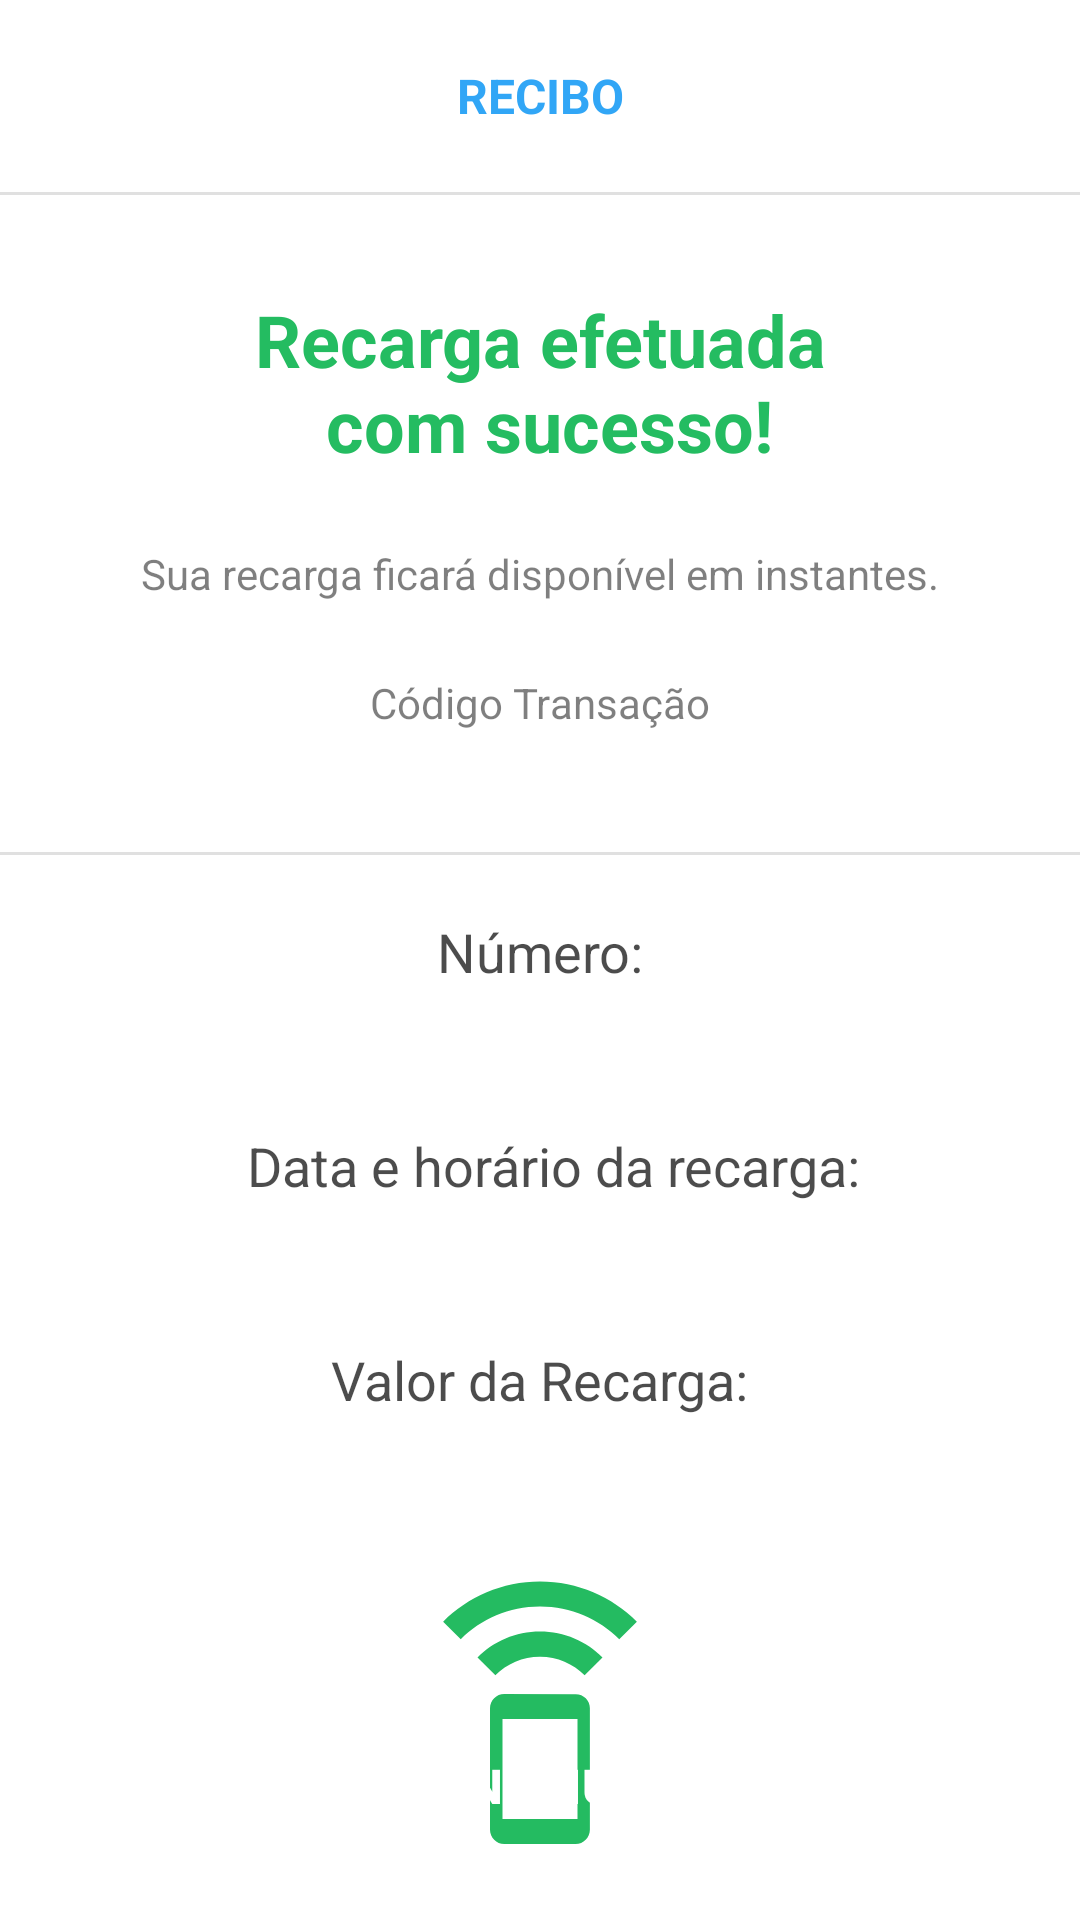

Locate icon controls on the screen. Image size 1080 × 1920, boxes as BBox(x1, y1, x2, y2).
recharge: BBox(443, 1581, 637, 1844)
